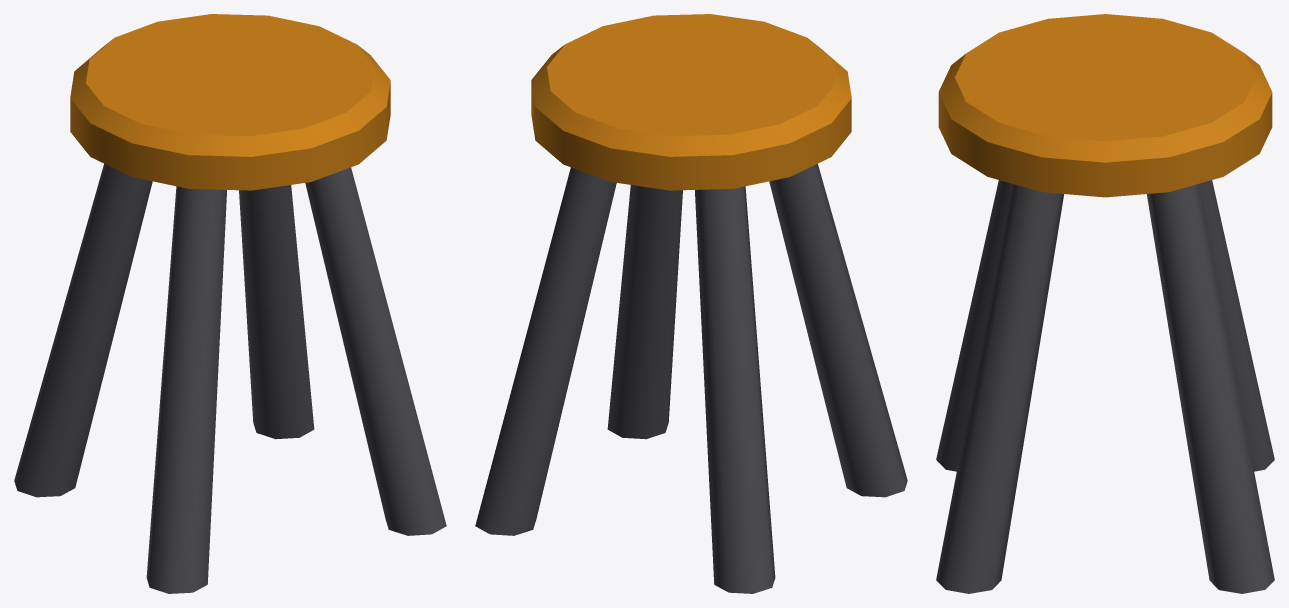
The model's file is Chair.fbx.
3 views of the same model, side by side, from view 1: azimuth 30°, elevation 25°; view 2: azimuth 150°, elevation 25°; view 3: azimuth 270°, elevation 25° (orthographic). The views are drawn at different scales.
Parts seen in each view (by area): view 1: Chair; view 2: Chair; view 3: Chair.
Boxes of the visible parts, <box> form: Chair: <box>14,14,446,593</box>; Chair: <box>475,14,907,593</box>; Chair: <box>936,14,1274,593</box>.
Size of the model in its own units: 46.85 by 45.31 by 65.33.
